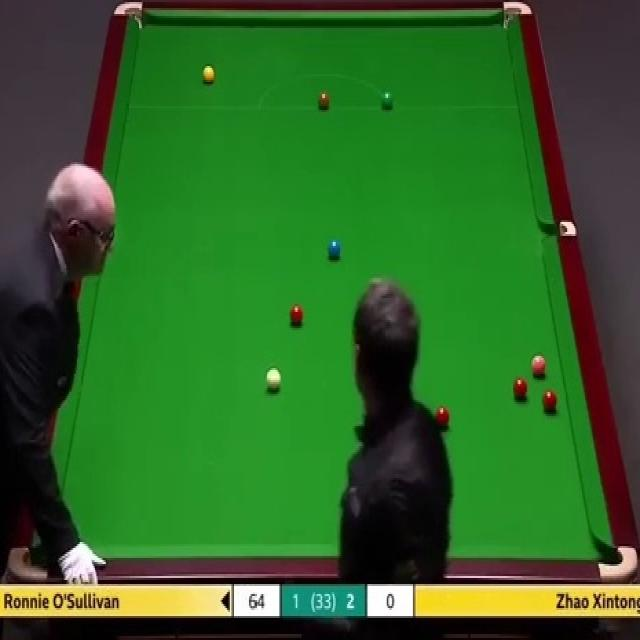pocket: (597, 543, 637, 583), (7, 548, 44, 578), (112, 0, 145, 32), (501, 2, 530, 30), (541, 220, 575, 237)
